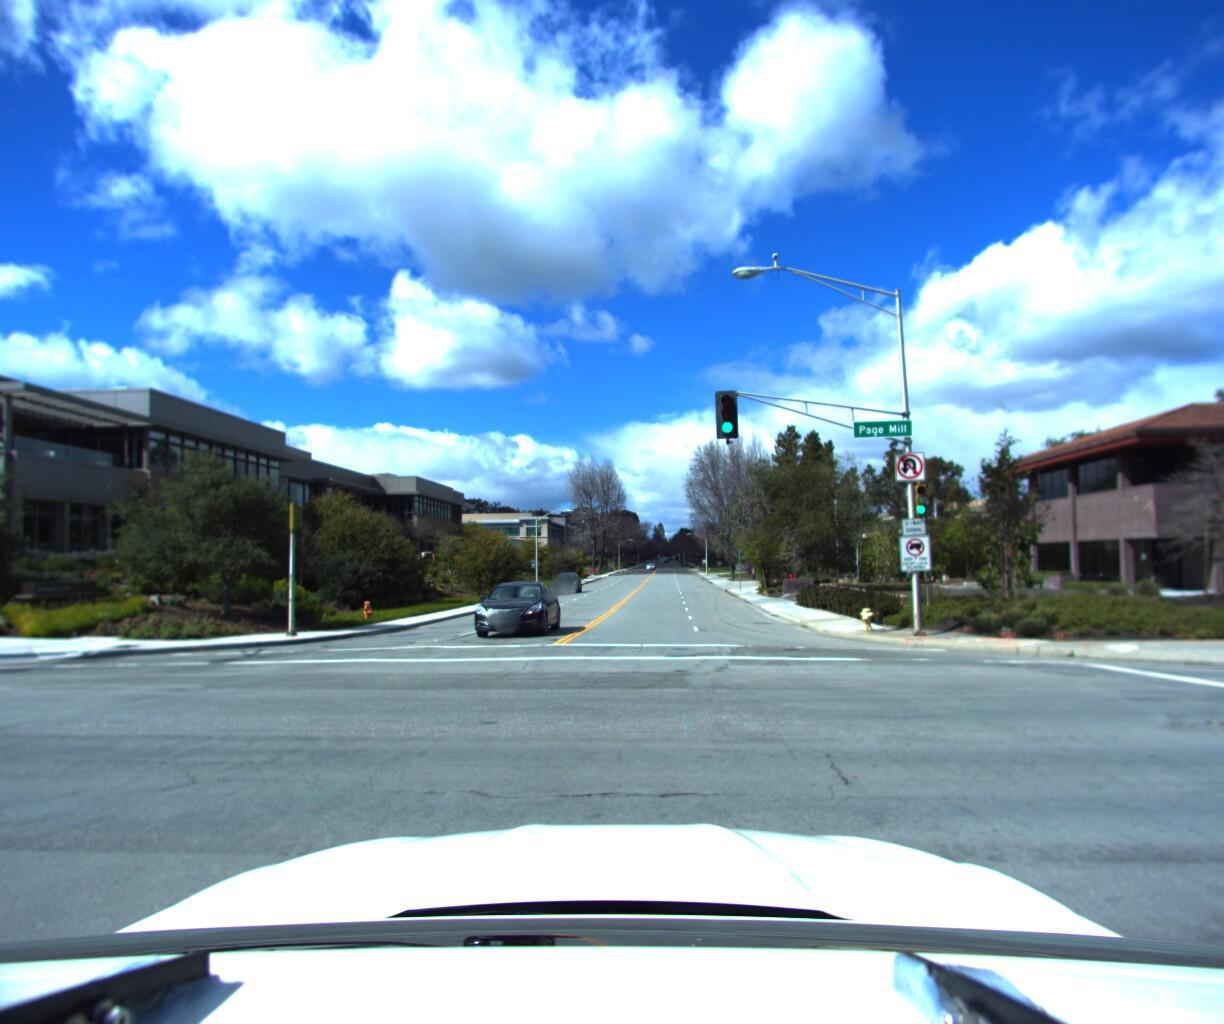car: (456, 578, 564, 643), (551, 573, 582, 597)
